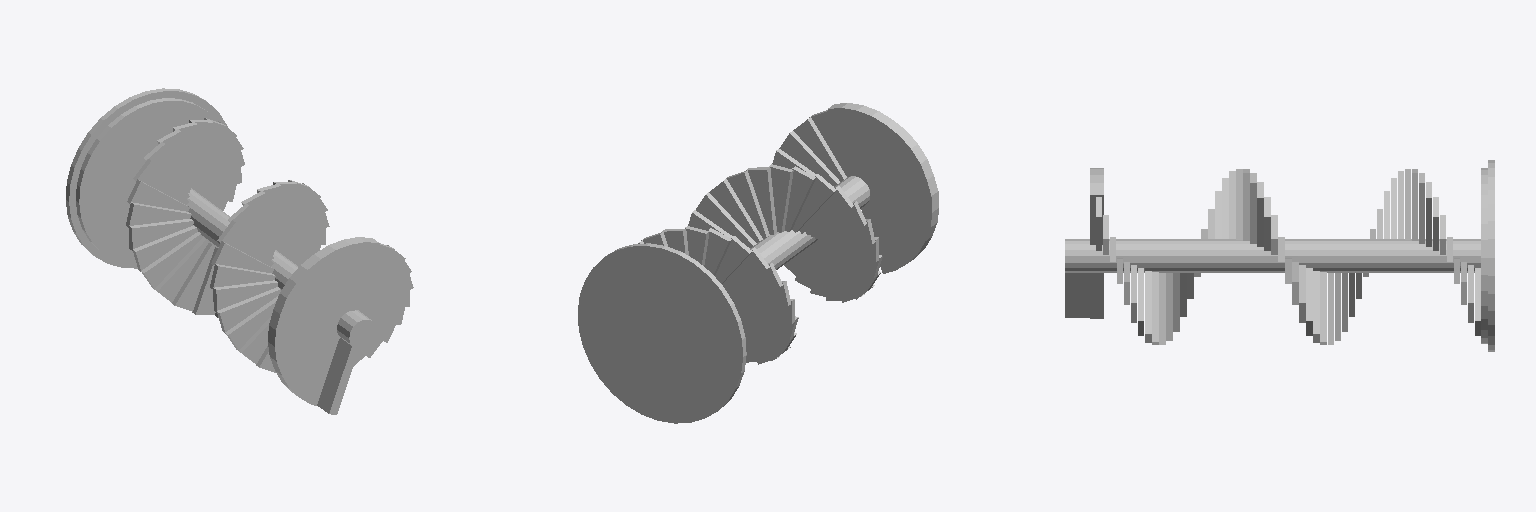
The model's file is tinker_6.obj.
3 renders of one model, left to right at view 1: azimuth 30°, elevation 25°; view 2: azimuth 150°, elevation 25°; view 3: azimuth 270°, elevation 25°, orthographic.
Visible parts, largest first — view 1: obj_0; view 2: obj_0; view 3: obj_0.
Part boxes in pixels (bbox=[...]): obj_0: bbox=[66, 88, 413, 414]; obj_0: bbox=[578, 103, 938, 423]; obj_0: bbox=[1065, 160, 1494, 351].
Bounding box in the file's own units: 29.99 × 29.99 × 67.5.